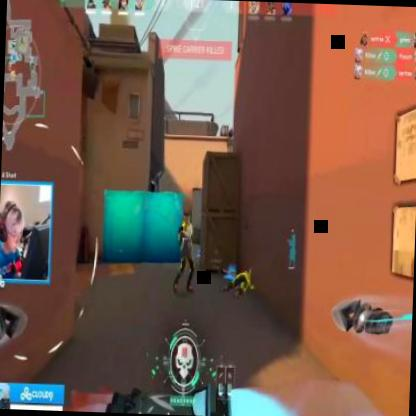enemy: (174, 208, 198, 301)
enemy_head: (184, 209, 189, 224)
